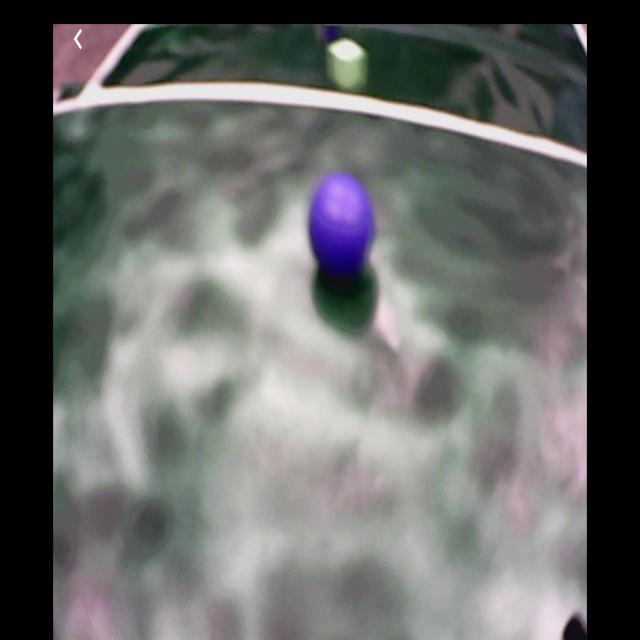ball: (308, 172, 372, 270)
